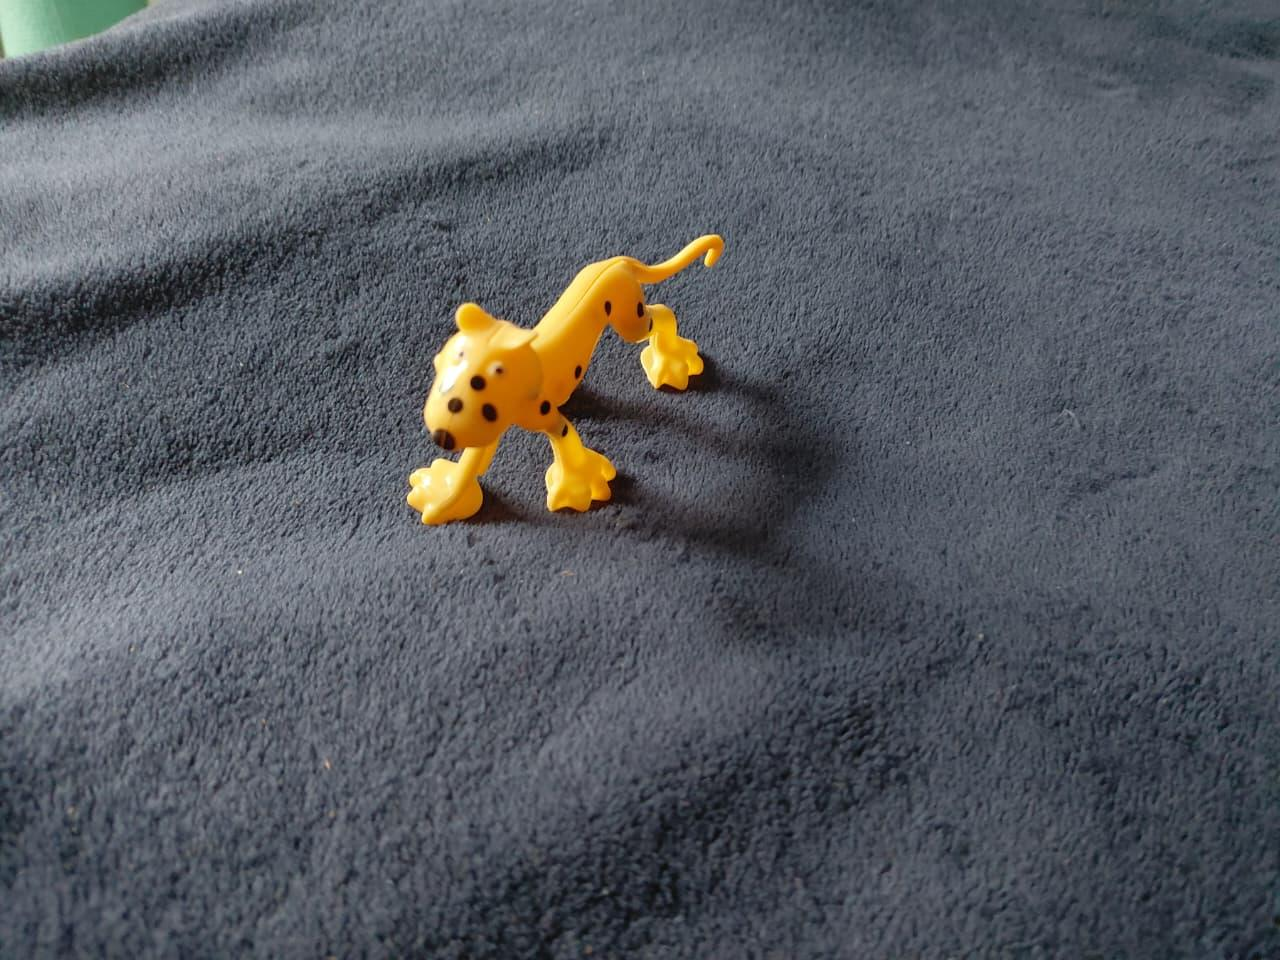cheetah: (360, 221, 743, 528)
